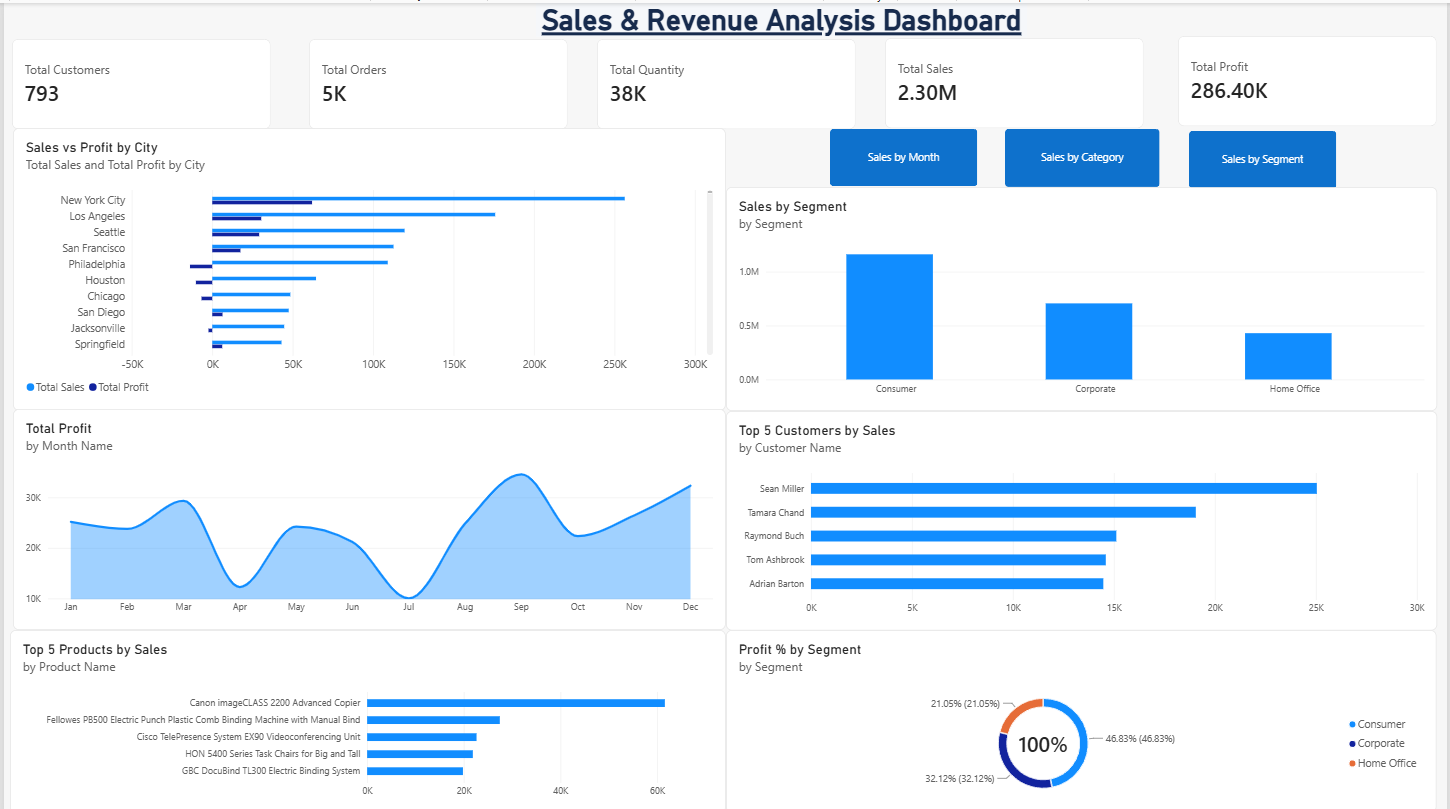

The page's visual inventory and layout, read from the dashboard file:
{"tool":"powerbi","page":{"name":"Page 1","canvas":[1920,1080],"ordinal":0},"visuals":[{"type":"cardVisual","fields":{"Data":["superstore.Total Customers"]},"box":[11.2,48.3,344.2,121],"z":0},{"type":"cardVisual","fields":{"Data":["superstore.Total Orders"]},"box":[405,48.3,344.2,121],"z":1000},{"type":"cardVisual","fields":{"Data":["superstore.Total Profit"]},"box":[1561.7,43.3,344.2,121],"z":2000},{"type":"cardVisual","fields":{"Data":["superstore.Total Quantity"]},"box":[788.3,48.3,344.2,121],"z":3000},{"type":"cardVisual","fields":{"Data":["superstore.Total Sales"]},"box":[1171.7,46.7,344.2,121],"z":4000},{"type":"clusteredBarChart","title":"Sales vs Profit by City","fields":{"Category":["superstore.City"],"Y":["superstore.Total Sales","superstore.Total Profit"]},"box":[12,166,948,376],"z":5000},{"type":"areaChart","fields":{"Category":["superstore.Month Name"],"Y":["superstore.Total Profit"]},"box":[12,540,948,294],"z":6000},{"type":"clusteredBarChart","fields":{"Category":["superstore.Customer Name"],"Y":["superstore.Total Sales"]},"box":[960,542,946,292],"z":7000},{"type":"clusteredBarChart","fields":{"Category":["superstore.Product Name"],"Y":["superstore.Total Sales"]},"box":[8,834,952,244],"z":8000},{"type":"donutChart","fields":{"Category":["superstore.Segment"],"Y":["superstore.Profit % by Segment"]},"box":[960.7,834,944.9,243.4],"z":9000},{"type":"actionButton","box":[1575.9,170.1,196,76],"z":13000},{"type":"textbox","title":"Sales & Revenue Analysis Dashboard","box":[708.2,0,653.2,44.7],"z":14000},{"type":"actionButton","box":[1098,168,196,76],"z":16000},{"type":"clusteredColumnChart","fields":{"Category":["superstore.Segment"],"Y":["superstore.Total Sales"]},"box":[960,245,946,298],"z":17000},{"type":"actionButton","box":[1330.8,168.1,205.6,77.1],"z":18001}]}

Visuals, with their boxes in screenshot pixels (x1, y1, x2, y2), scaled from the page's 1920x1080 canvas onto the 1450x809 screenshot:
cardVisual - superstore.Total Customers: [left=8, top=36, right=268, bottom=127]
cardVisual - superstore.Total Orders: [left=306, top=36, right=566, bottom=127]
cardVisual - superstore.Total Profit: [left=1179, top=32, right=1439, bottom=123]
cardVisual - superstore.Total Quantity: [left=595, top=36, right=855, bottom=127]
cardVisual - superstore.Total Sales: [left=885, top=35, right=1145, bottom=126]
"Sales vs Profit by City" clusteredBarChart: [left=9, top=124, right=725, bottom=406]
areaChart - superstore.Month Name x superstore.Total Profit: [left=9, top=404, right=725, bottom=625]
clusteredBarChart - superstore.Customer Name x superstore.Total Sales: [left=725, top=406, right=1439, bottom=625]
clusteredBarChart - superstore.Product Name x superstore.Total Sales: [left=6, top=625, right=725, bottom=808]
donutChart - superstore.Segment x superstore.Profit % by Segment: [left=726, top=625, right=1439, bottom=807]
actionButton: [left=1190, top=127, right=1338, bottom=184]
"Sales & Revenue Analysis Dashboard" textbox: [left=535, top=0, right=1028, bottom=33]
actionButton: [left=829, top=126, right=977, bottom=183]
clusteredColumnChart - superstore.Segment x superstore.Total Sales: [left=725, top=184, right=1439, bottom=407]
actionButton: [left=1005, top=126, right=1160, bottom=184]
